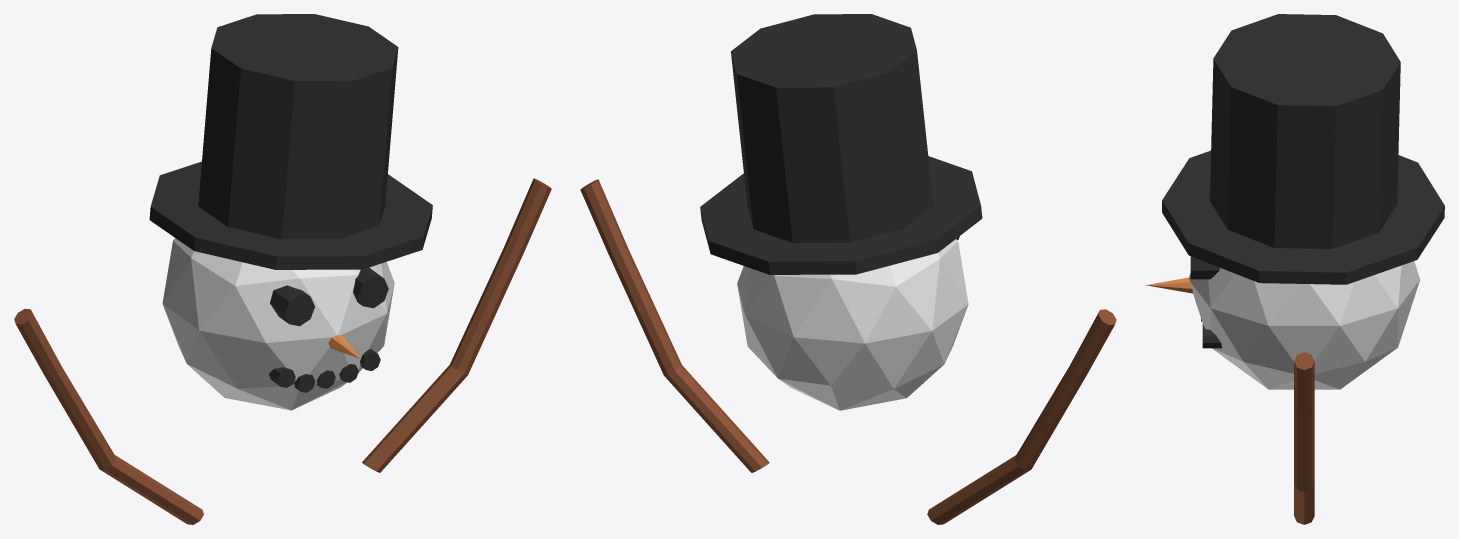
File: Snowman_part3.fbx
The picture shows the model from 3 angles, left to right: view 1: azimuth 30°, elevation 25°; view 2: azimuth 150°, elevation 25°; view 3: azimuth 270°, elevation 25°; orthographic projection. The views are drawn at different scales.
Parts seen in each view (by area): view 1: Snowman_part3; view 2: Snowman_part3; view 3: Snowman_part3.
Boxes of the visible parts, box(x1,y1,x2,y2) form: Snowman_part3: box(14, 14, 551, 524); Snowman_part3: box(580, 14, 1116, 524); Snowman_part3: box(1145, 14, 1444, 524).
Bounding box in the file's own units: 290 × 236 × 144.
